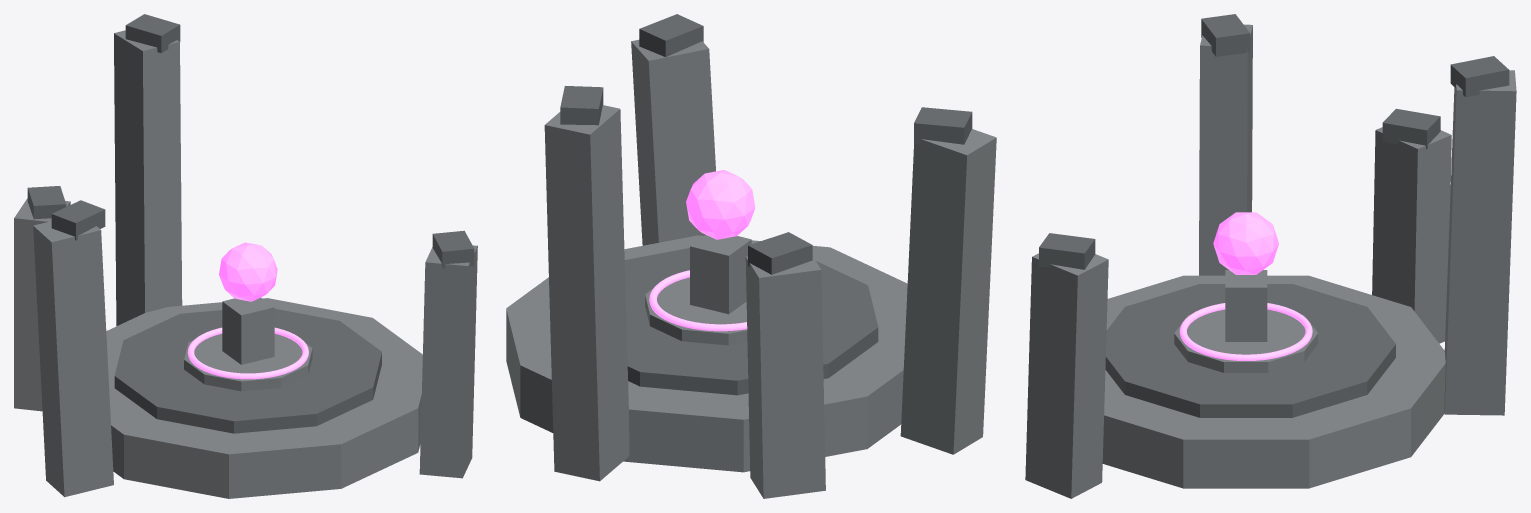
Rendered from beacon.glb.
3 renders of one model, left to right at view 1: azimuth 30°, elevation 25°; view 2: azimuth 150°, elevation 25°; view 3: azimuth 270°, elevation 25°, orthographic. The views are drawn at different scales.
Parts seen in each view (by area): view 1: Dais_0, Dais_1, Monolith_2, Monolith_0, Monolith_3, Monolith_1, Dais_2, Pedestal, BeaconOrb, GlowRing, MonolithCap_2, MonolithCap_0 (+2 smaller); view 2: Monolith_2, Dais_0, Monolith_0, Monolith_1, Dais_1, Monolith_3, Pedestal, BeaconOrb, Dais_2, MonolithCap_1, MonolithCap_3, MonolithCap_0 (+2 smaller); view 3: Dais_0, Dais_1, Monolith_2, Monolith_3, Monolith_1, Monolith_0, Dais_2, BeaconOrb, Pedestal, GlowRing, MonolithCap_2, MonolithCap_1 (+2 smaller).
Part boxes in pixels (x1,y1,x2,y2): Dais_0: [106, 298, 422, 498]; Dais_1: [114, 308, 381, 433]; Monolith_2: [114, 30, 182, 326]; Monolith_0: [33, 221, 113, 497]; Monolith_3: [419, 245, 477, 478]; Monolith_1: [14, 198, 70, 411]; Dais_2: [184, 334, 312, 391]; Pedestal: [222, 297, 274, 364]; BeaconOrb: [219, 242, 277, 301]; GlowRing: [187, 327, 308, 379]; MonolithCap_2: [125, 14, 180, 53]; MonolithCap_0: [51, 200, 105, 240]; Monolith_2: [544, 105, 629, 481]; Dais_0: [506, 235, 907, 472]; Monolith_0: [900, 129, 996, 454]; Monolith_1: [745, 256, 825, 498]; Dais_1: [624, 248, 878, 395]; Monolith_3: [631, 39, 715, 245]; Pedestal: [690, 235, 751, 314]; BeaconOrb: [686, 170, 755, 239]; Dais_2: [645, 277, 747, 345]; MonolithCap_1: [748, 232, 812, 274]; MonolithCap_3: [639, 14, 703, 57]; MonolithCap_0: [914, 107, 972, 144]; Dais_0: [1102, 275, 1445, 488]; Dais_1: [1105, 284, 1395, 417]; Monolith_2: [1444, 70, 1516, 415]; Monolith_3: [1025, 253, 1108, 498]; Monolith_1: [1372, 127, 1451, 343]; Monolith_0: [1199, 24, 1252, 275]; Dais_2: [1174, 309, 1317, 372]; BeaconOrb: [1213, 212, 1278, 274]; Pedestal: [1225, 270, 1267, 341]; GlowRing: [1179, 303, 1312, 360]; MonolithCap_2: [1450, 56, 1509, 96]; MonolithCap_1: [1382, 108, 1440, 149].
Size of the model in its own units: 7.78 by 6.64 by 8.19.
